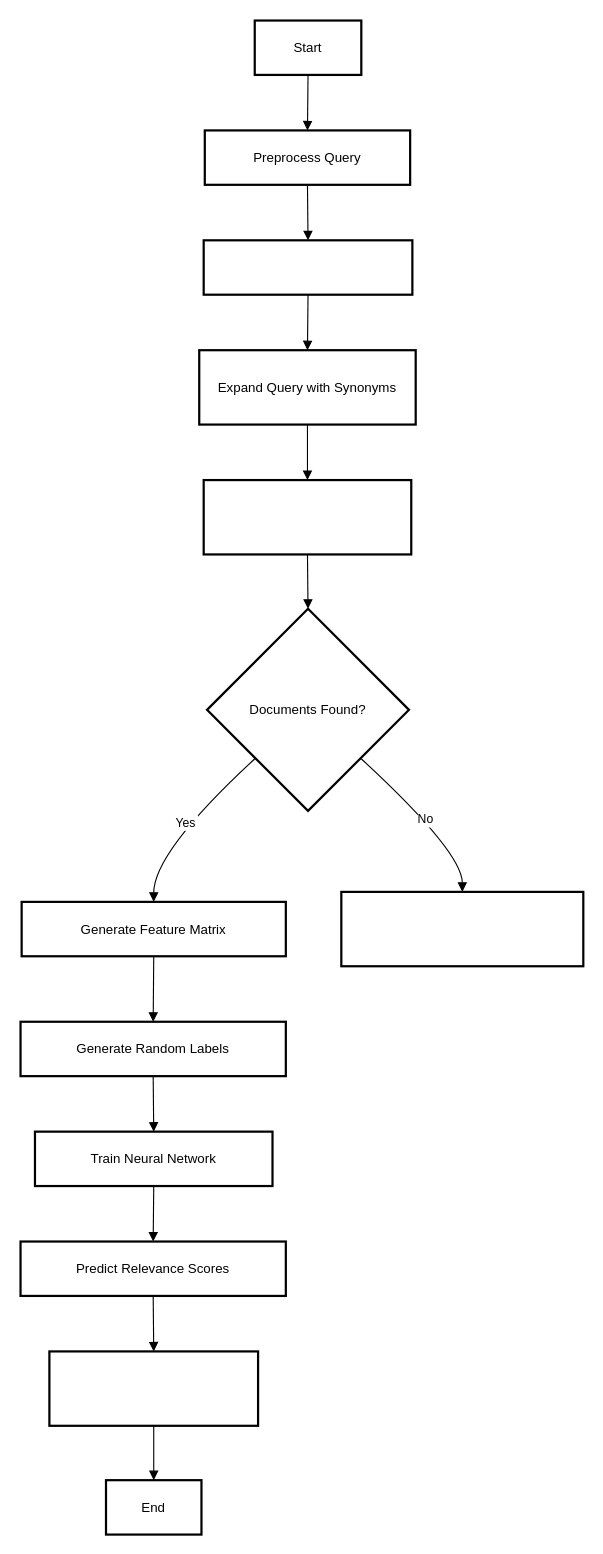
The diagram is 603 pixels wide and 1554 high, and some of its shapes have lost their labels. The shapes that lost their labels are listed below. From the top down, each one's centre as x and y in pixels, then its label:
At point 307,267: "Identify Keywords".
At point 307,516: "Retrieve Relevant Documents".
At point 462,928: "Display No Documents Found".
At point 153,1388: "Display Document Relevance Scores".
